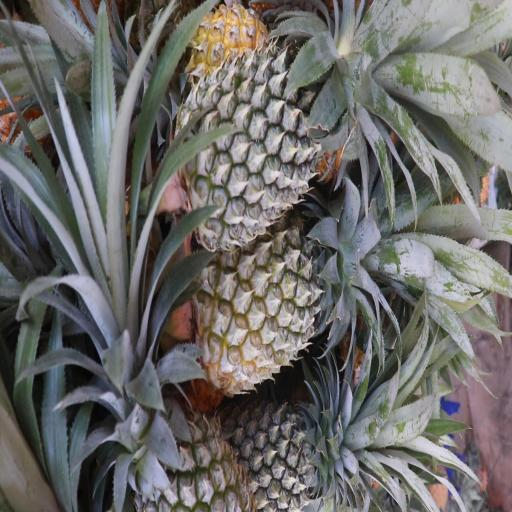------------------------------: (198, 241, 333, 395), (118, 388, 246, 512)
Pineapple - v8 v1: (184, 0, 288, 87)
